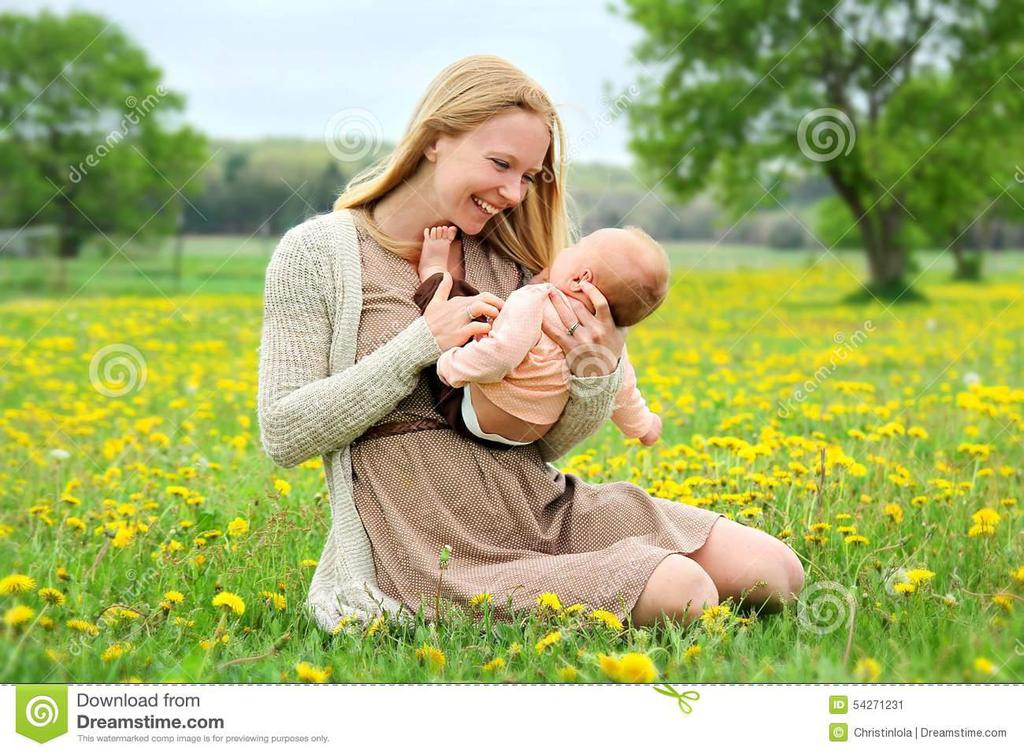child: (408, 216, 672, 449)
